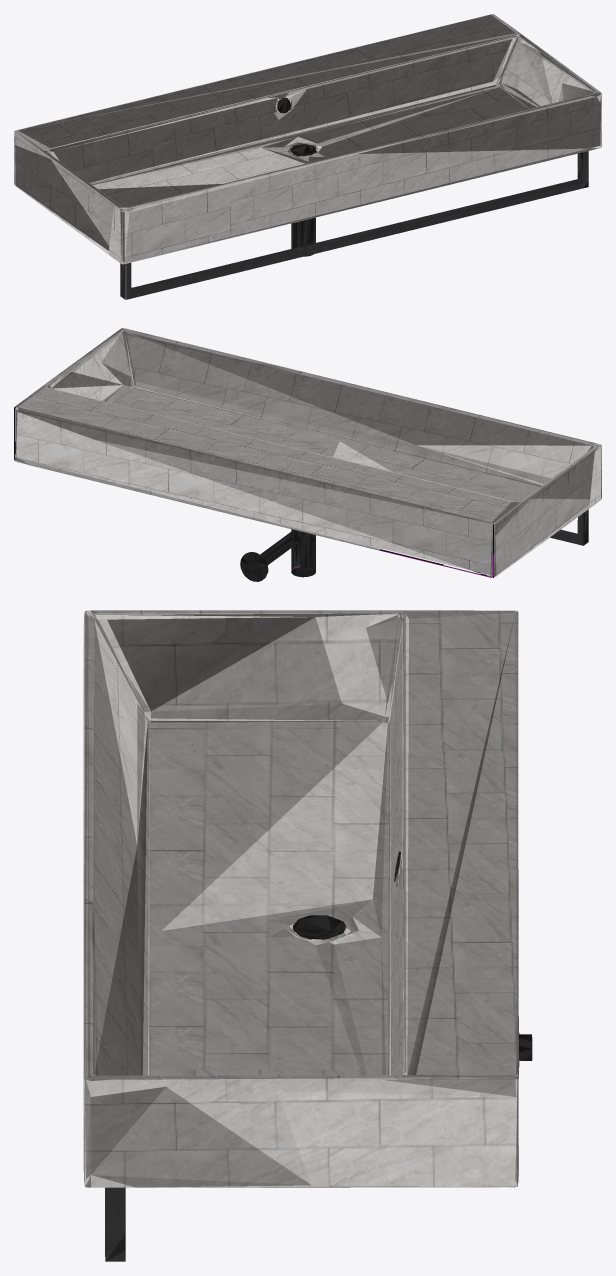
File: 洗手台(reduce).fbx
3 views of the same model, one above another, from view 1: azimuth 30°, elevation 25°; view 2: azimuth 150°, elevation 25°; view 3: azimuth 270°, elevation 25° (orthographic). The views are drawn at different scales.
Parts seen in each view (by area): view 1: Box005, Box009, Cylinder008; view 2: Box005, Cylinder008, Box009; view 3: Box005, Box009, Cylinder006.
Part boxes in pixels (x1,y1,x2,y2): Box005: (14, 14, 601, 264); Box009: (120, 151, 588, 299); Cylinder008: (291, 217, 315, 256); Box005: (14, 328, 601, 578); Cylinder008: (240, 529, 315, 581); Box009: (550, 509, 588, 545); Box005: (83, 610, 518, 1187); Box009: (105, 1187, 125, 1261); Cylinder006: (293, 915, 345, 939).
Size of the model in its own units: 120 by 34.13 by 48.47.
1 material, 1 textured.
